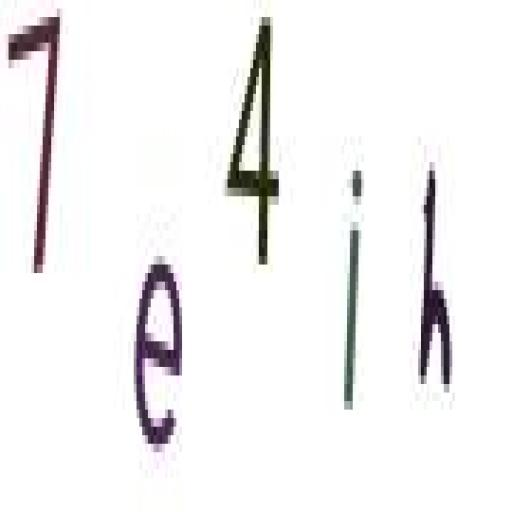4: (224, 6, 283, 276)
7: (4, 6, 62, 283)
e: (133, 245, 184, 456)
h: (416, 150, 456, 413)
i: (338, 152, 368, 424)
